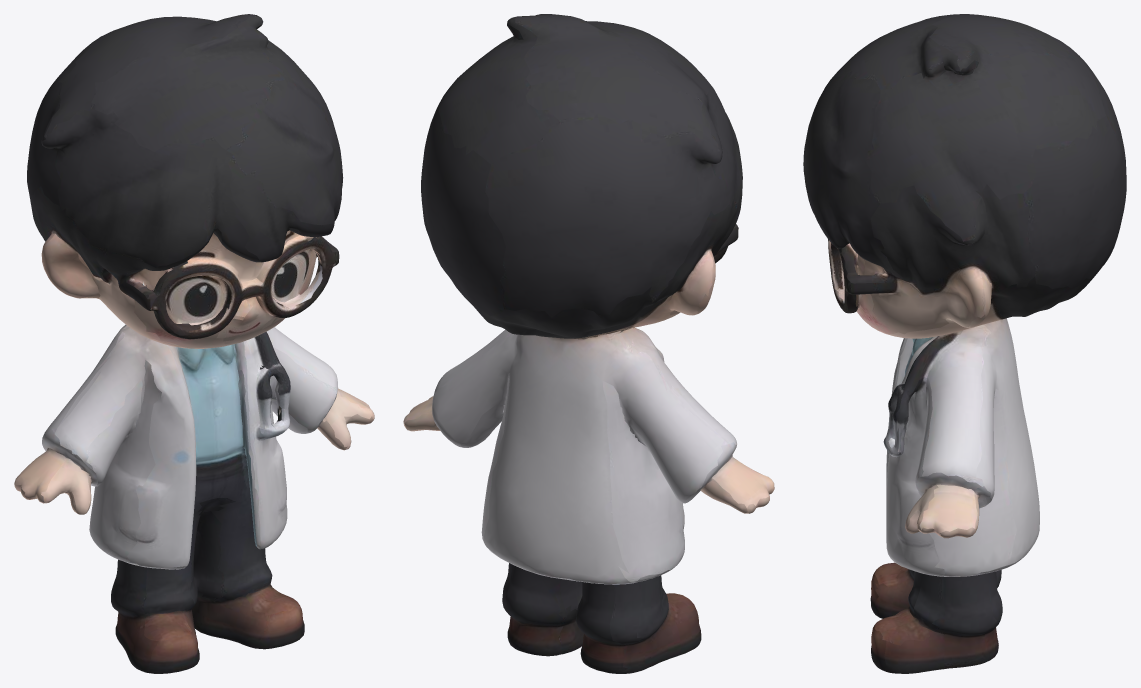
Rendered from mori.glb.
3 renders of one model, left to right at view 1: azimuth 30°, elevation 25°; view 2: azimuth 150°, elevation 25°; view 3: azimuth 270°, elevation 25°, orthographic. The views are drawn at different scales.
Visible parts, largest first — view 1: mori_s21; view 2: mori_s21; view 3: mori_s21.
Part boxes in pixels (box(x1,y1,x2,y2)): mori_s21: box(14, 14, 374, 673); mori_s21: box(403, 14, 774, 673); mori_s21: box(803, 14, 1126, 673).
Bounding box in the file's own units: 0.6058 × 1 × 0.4812.
Materials: 1 (1 with a texture image).
